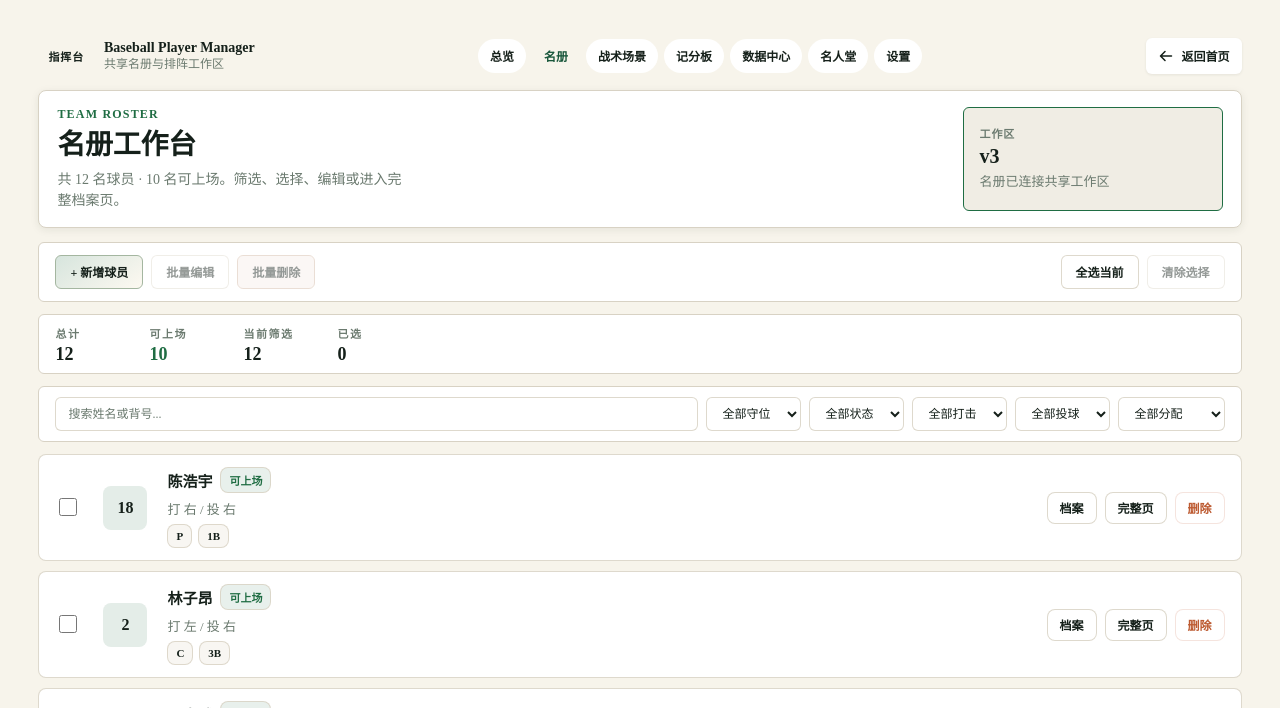
Test: RosterPageClient › filters players and enables bulk actions after selection
Type "陈浩宇" into the search field with placeholder "搜索姓名或背号..." at (376, 414), box [55, 397, 698, 431]
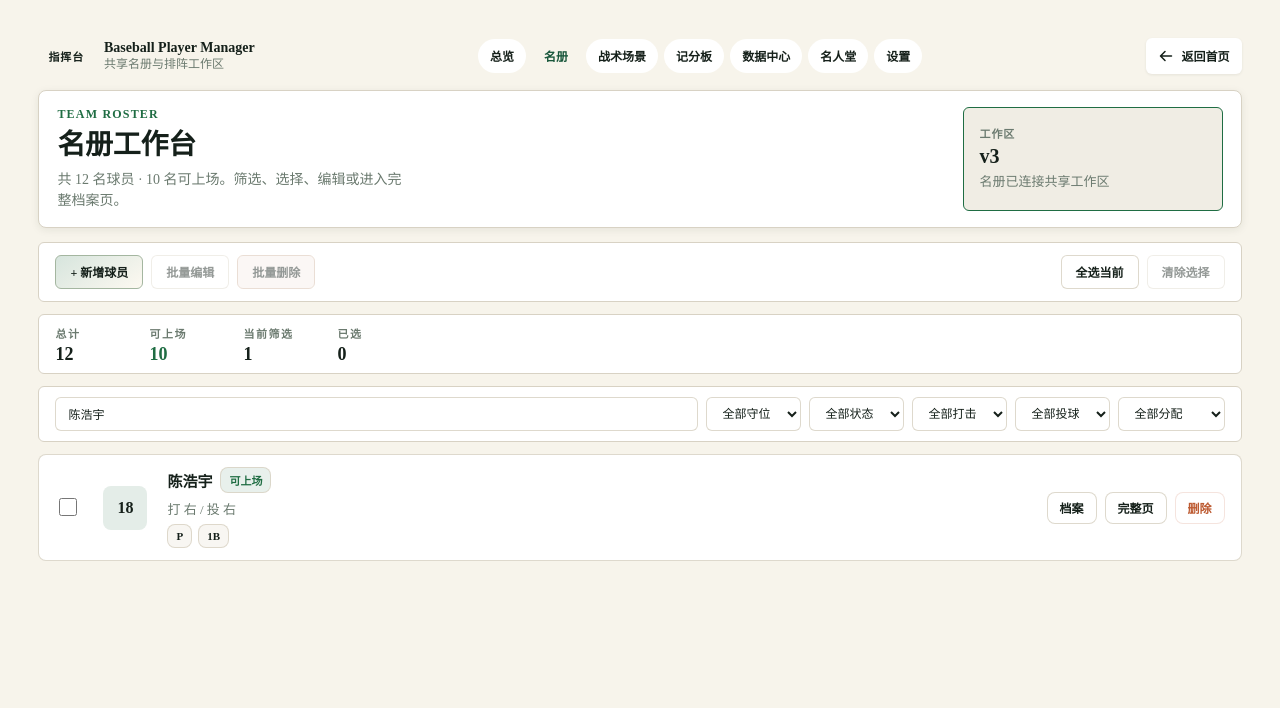
Expected: the text "陈浩宇" is shown, [167, 470, 212, 491]
Click the checkbox named "选择 陈浩宇" at (68, 507), box [59, 498, 77, 516]
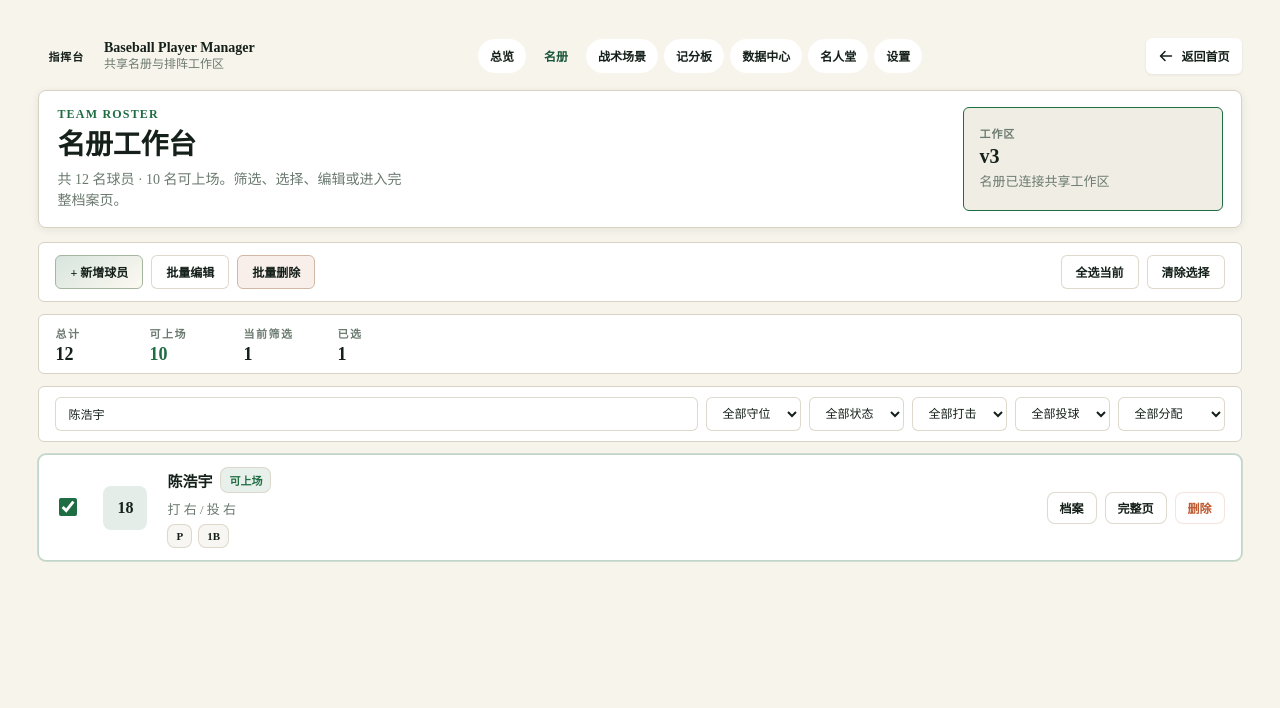
Click the button "批量编辑" at (190, 272), box [151, 255, 229, 289]
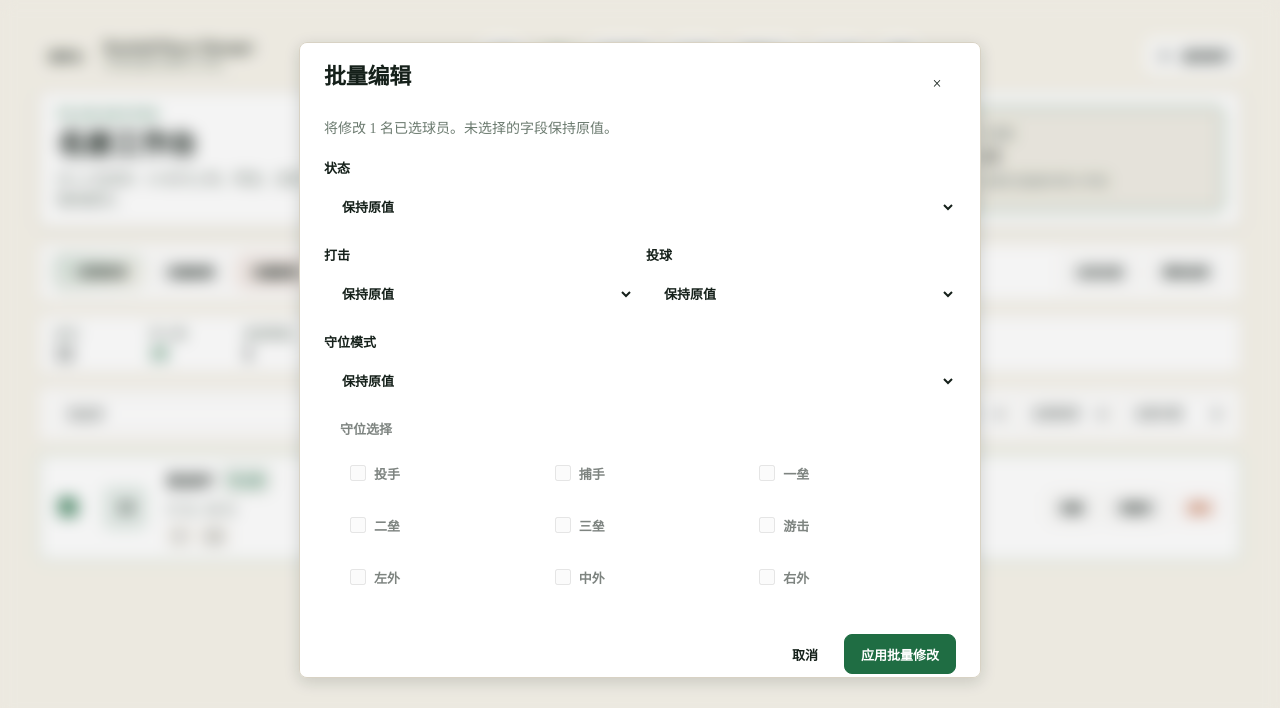
Now the dialog is shown, box [299, 42, 981, 678]
Now the text "将修改 1 名已选球员。未选择的字段保持原值。" is shown, box [324, 121, 618, 136]
